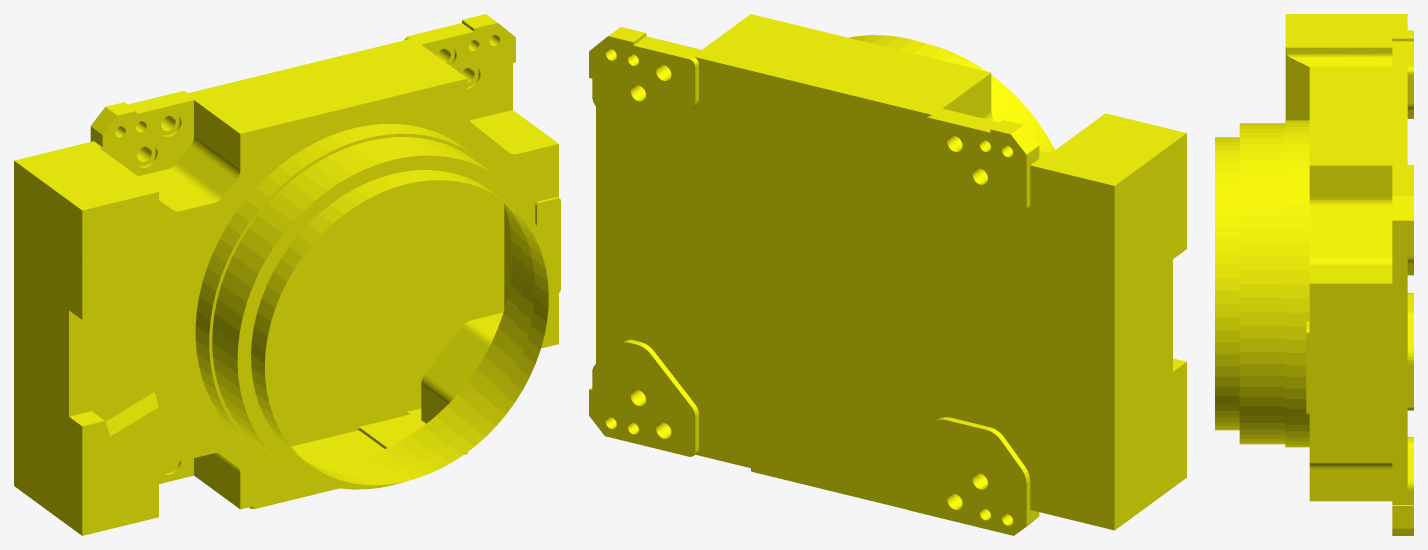
3 renders of one model, left to right at view 1: azimuth 30°, elevation 25°; view 2: azimuth 150°, elevation 25°; view 3: azimuth 270°, elevation 25°, orthographic. The views are drawn at different scales.
Visible parts, largest first — view 1: node; view 2: node; view 3: node.
Part boxes in pixels (x1=…): node: x1=14, y1=14, x2=560, y2=535; node: x1=589, y1=14, x2=1186, y2=535; node: x1=1215, y1=14, x2=1413, y2=535.
Bounding box in the file's own units: 824 × 610 × 322.
